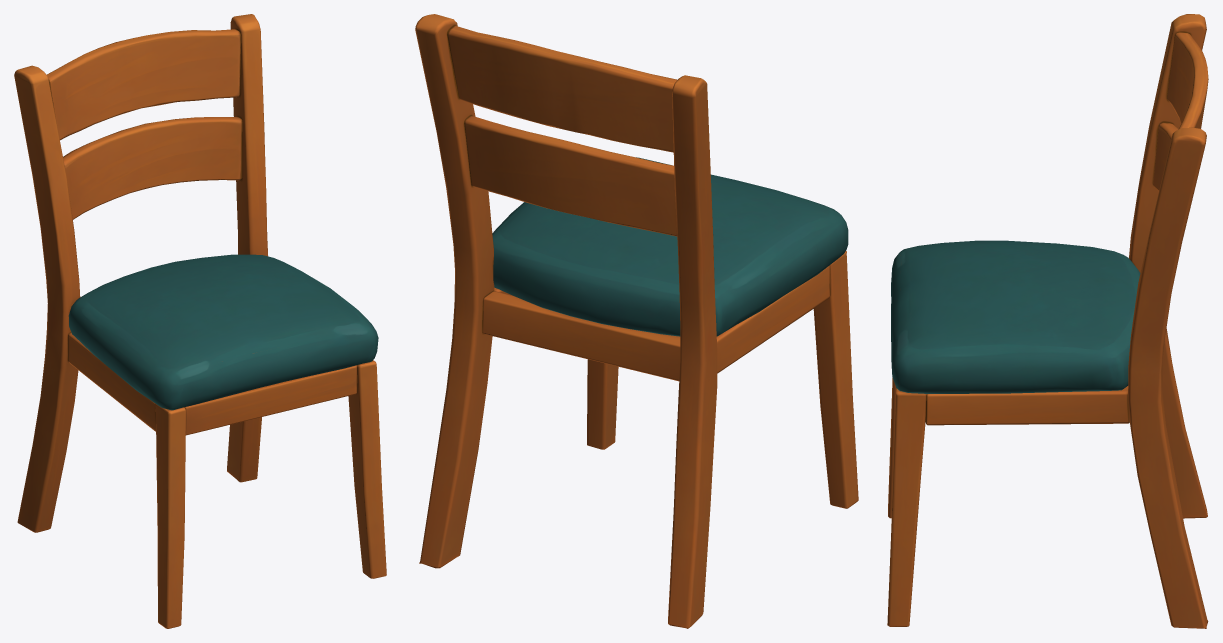
The model's file is apartment-chair.glb.
The picture shows the model from 3 angles, left to right: view 1: azimuth 30°, elevation 25°; view 2: azimuth 150°, elevation 25°; view 3: azimuth 270°, elevation 25°; orthographic projection. The views are drawn at different scales.
Parts seen in each view (by area): view 1: geometry_0; view 2: geometry_0; view 3: geometry_0.
Boxes of the visible parts, x1,y1,x2,y2 form: geometry_0: (14, 14, 386, 628); geometry_0: (415, 14, 858, 628); geometry_0: (887, 14, 1208, 628).
Bounding box in the file's own units: 0.5422 × 1 × 0.5891.
1 material, 1 textured.
